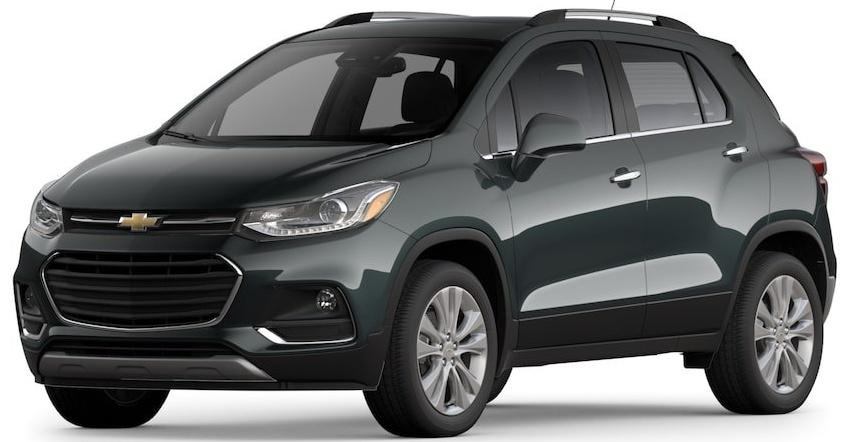Crossovers: (14, 9, 838, 437)
